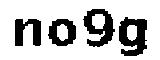9: (80, 4, 114, 51)
g: (116, 14, 150, 57)
n: (9, 16, 43, 49)
o: (46, 19, 78, 46)
